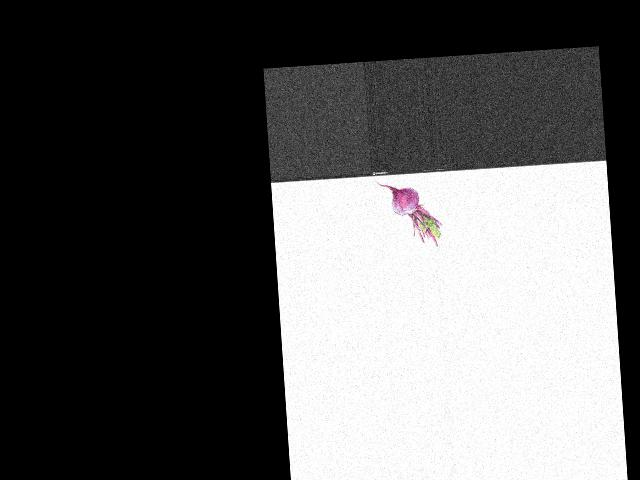beet: (374, 175, 443, 251)
